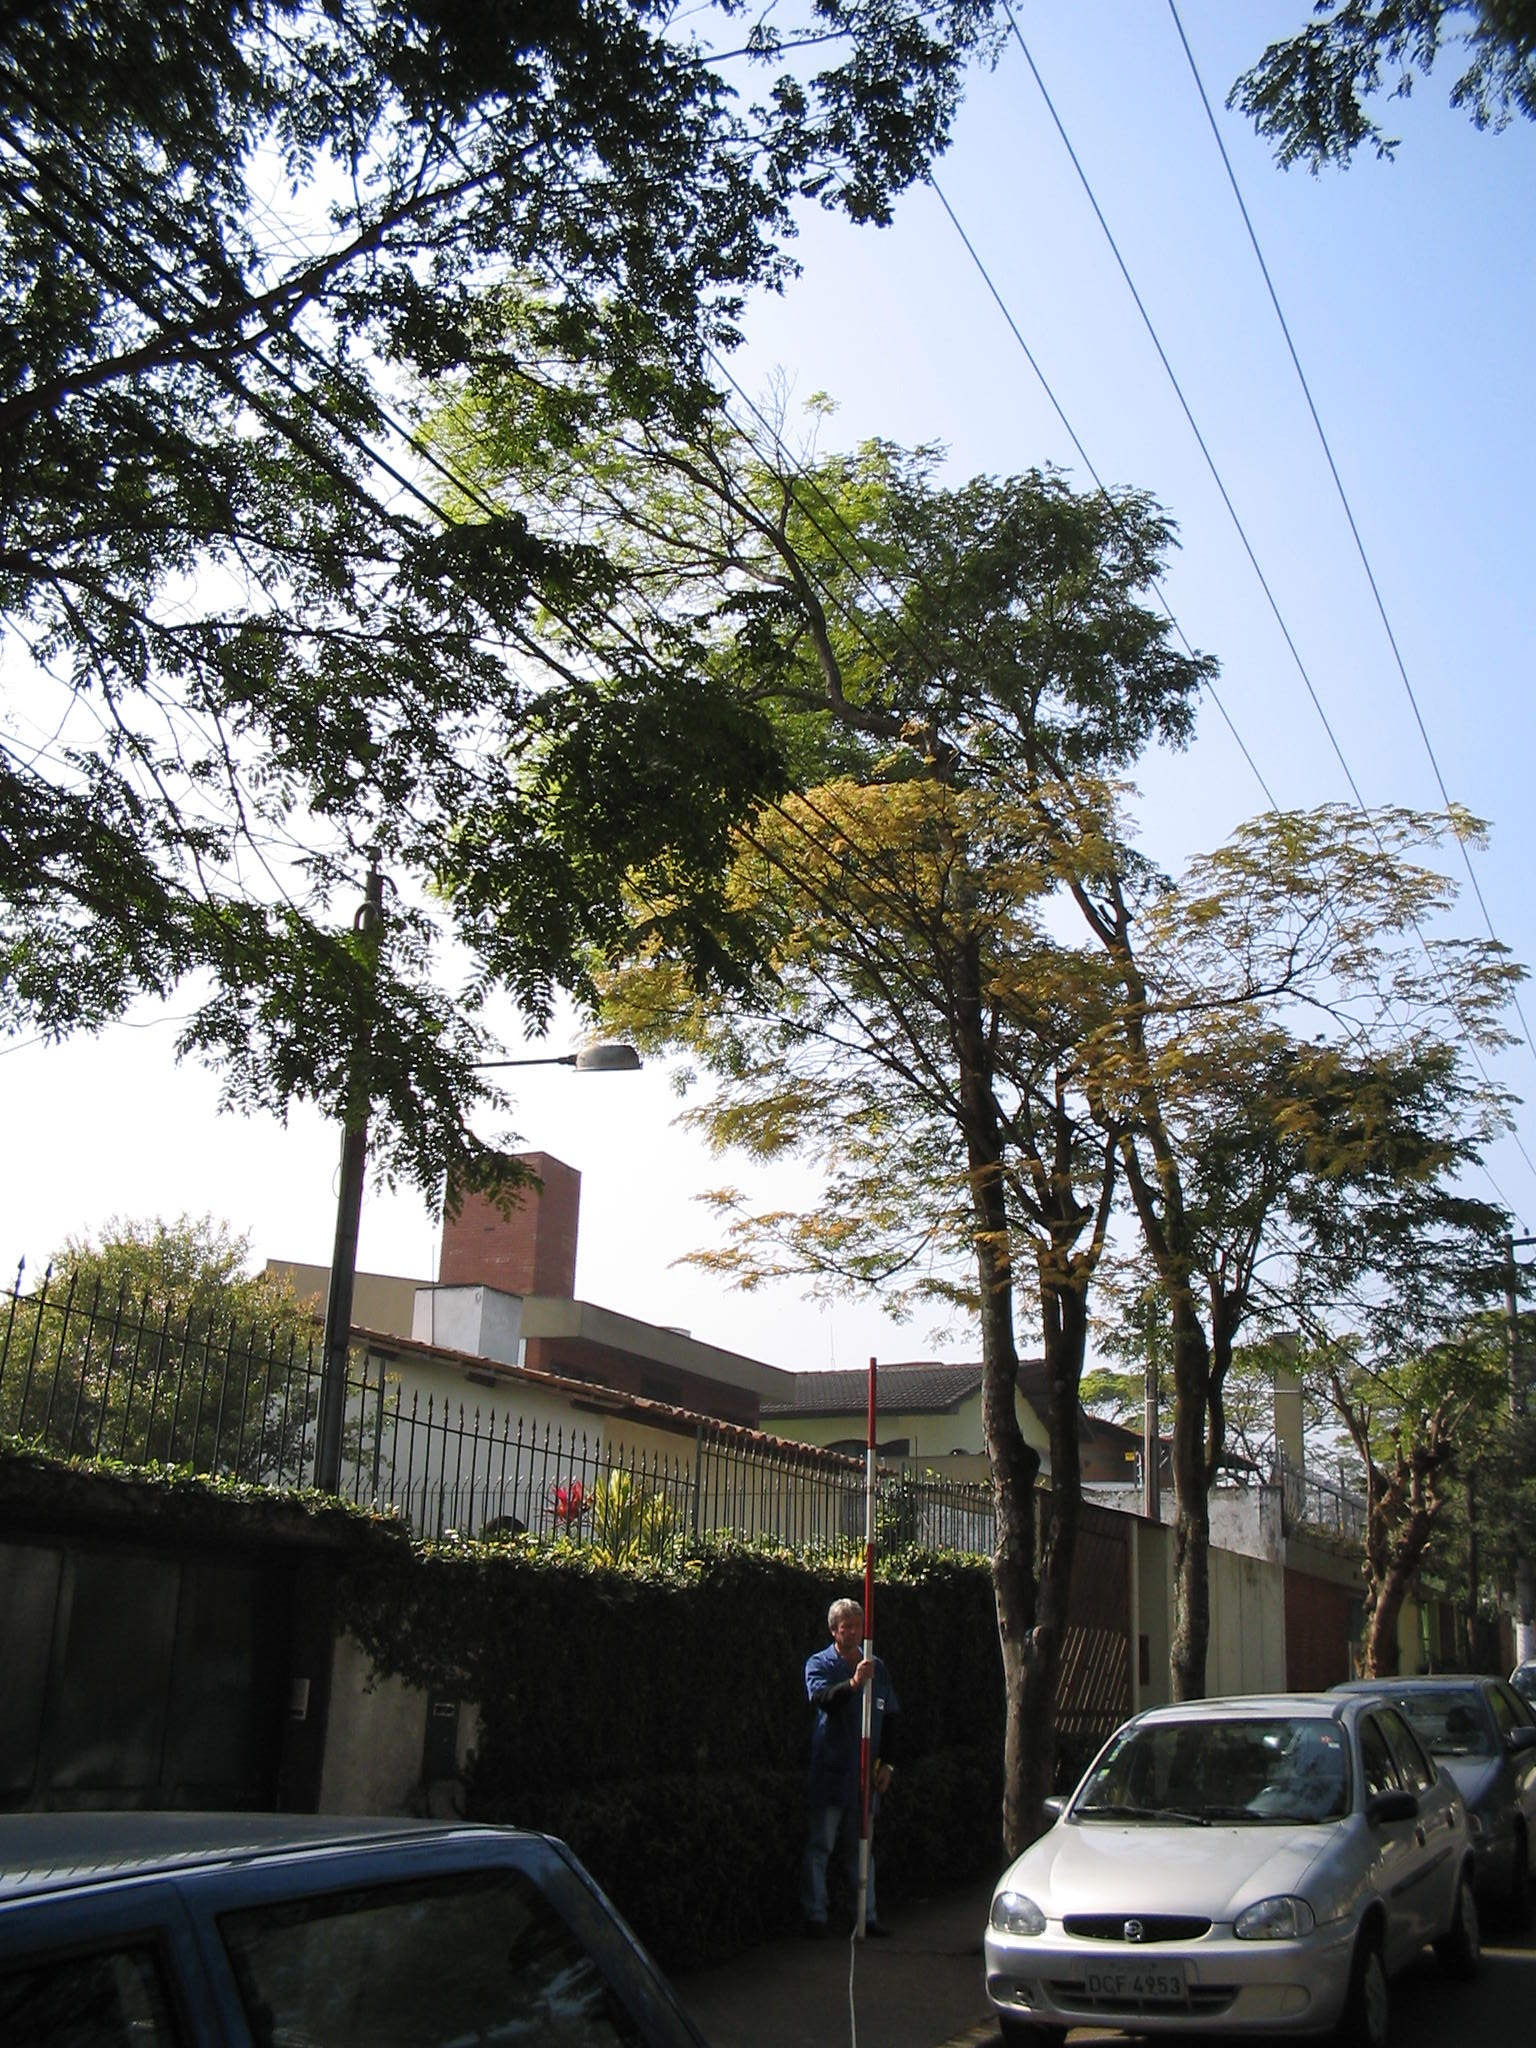crown: (486, 476, 1178, 1063)
stem: (957, 1642, 1081, 1940)
stick: (828, 1355, 915, 1940)
tree: (474, 468, 1183, 1942), (1107, 813, 1375, 1703), (1302, 1274, 1510, 1675)
